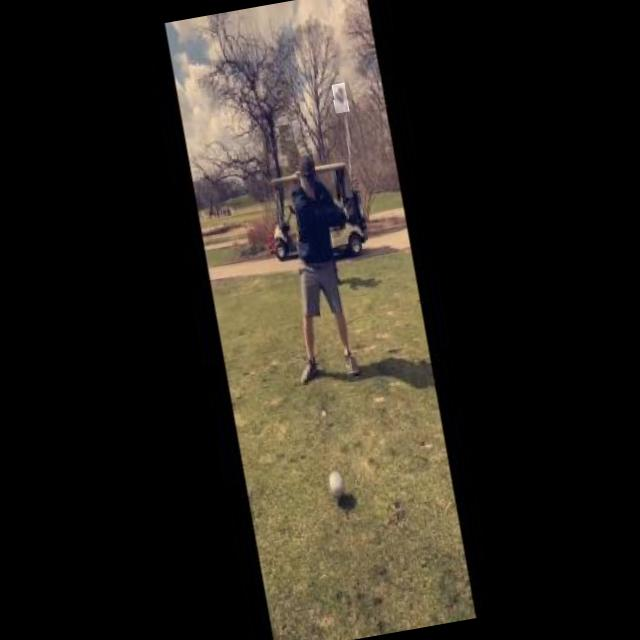club head: (331, 82, 349, 113)
